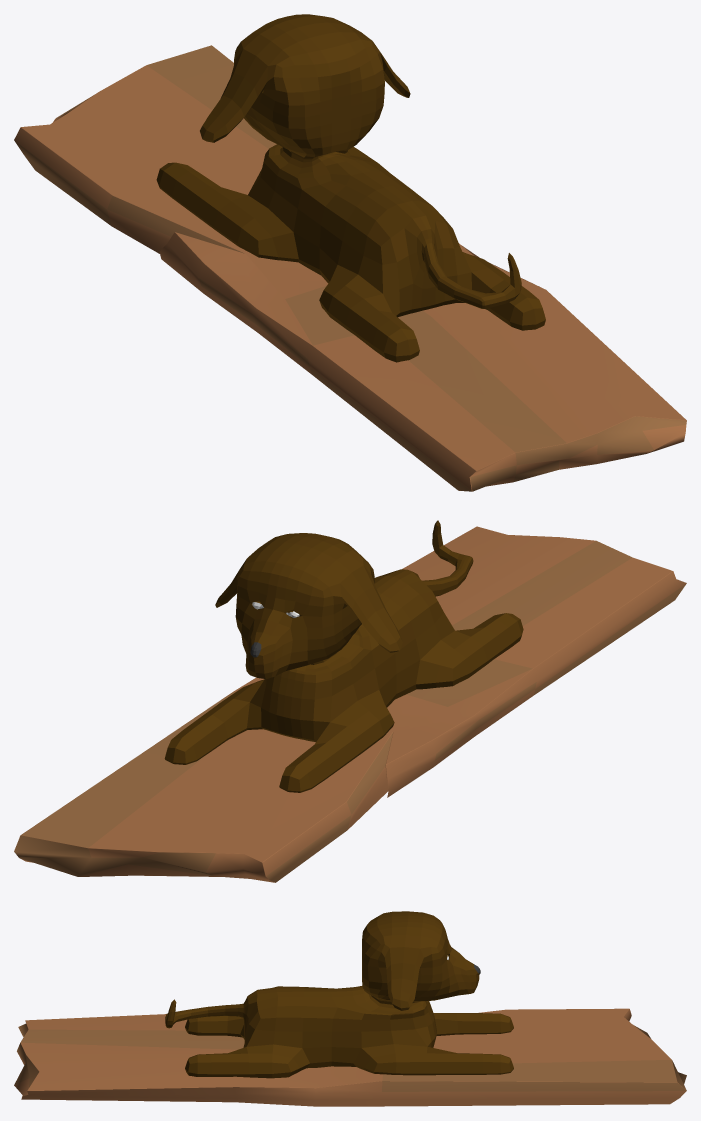
The model's file is Bida_aso.fbx.
The picture shows the model from 3 angles, top to bottom: view 1: azimuth 30°, elevation 25°; view 2: azimuth 150°, elevation 25°; view 3: azimuth 270°, elevation 25°; orthographic projection. The views are drawn at different scales.
Visible parts, largest first — view 1: plank_04, Cube; view 2: plank_04, Cube; view 3: plank_04, Cube.
Boxes of the visible parts, x1,y1,x2,y2 form: plank_04: (14,45,686,491); Cube: (156,14,545,362); plank_04: (14,526,686,882); Cube: (164,520,523,792); plank_04: (14,1008,686,1106); Cube: (165,911,513,1078).
Bounding box in the file's own units: 285 × 266 × 1045.
